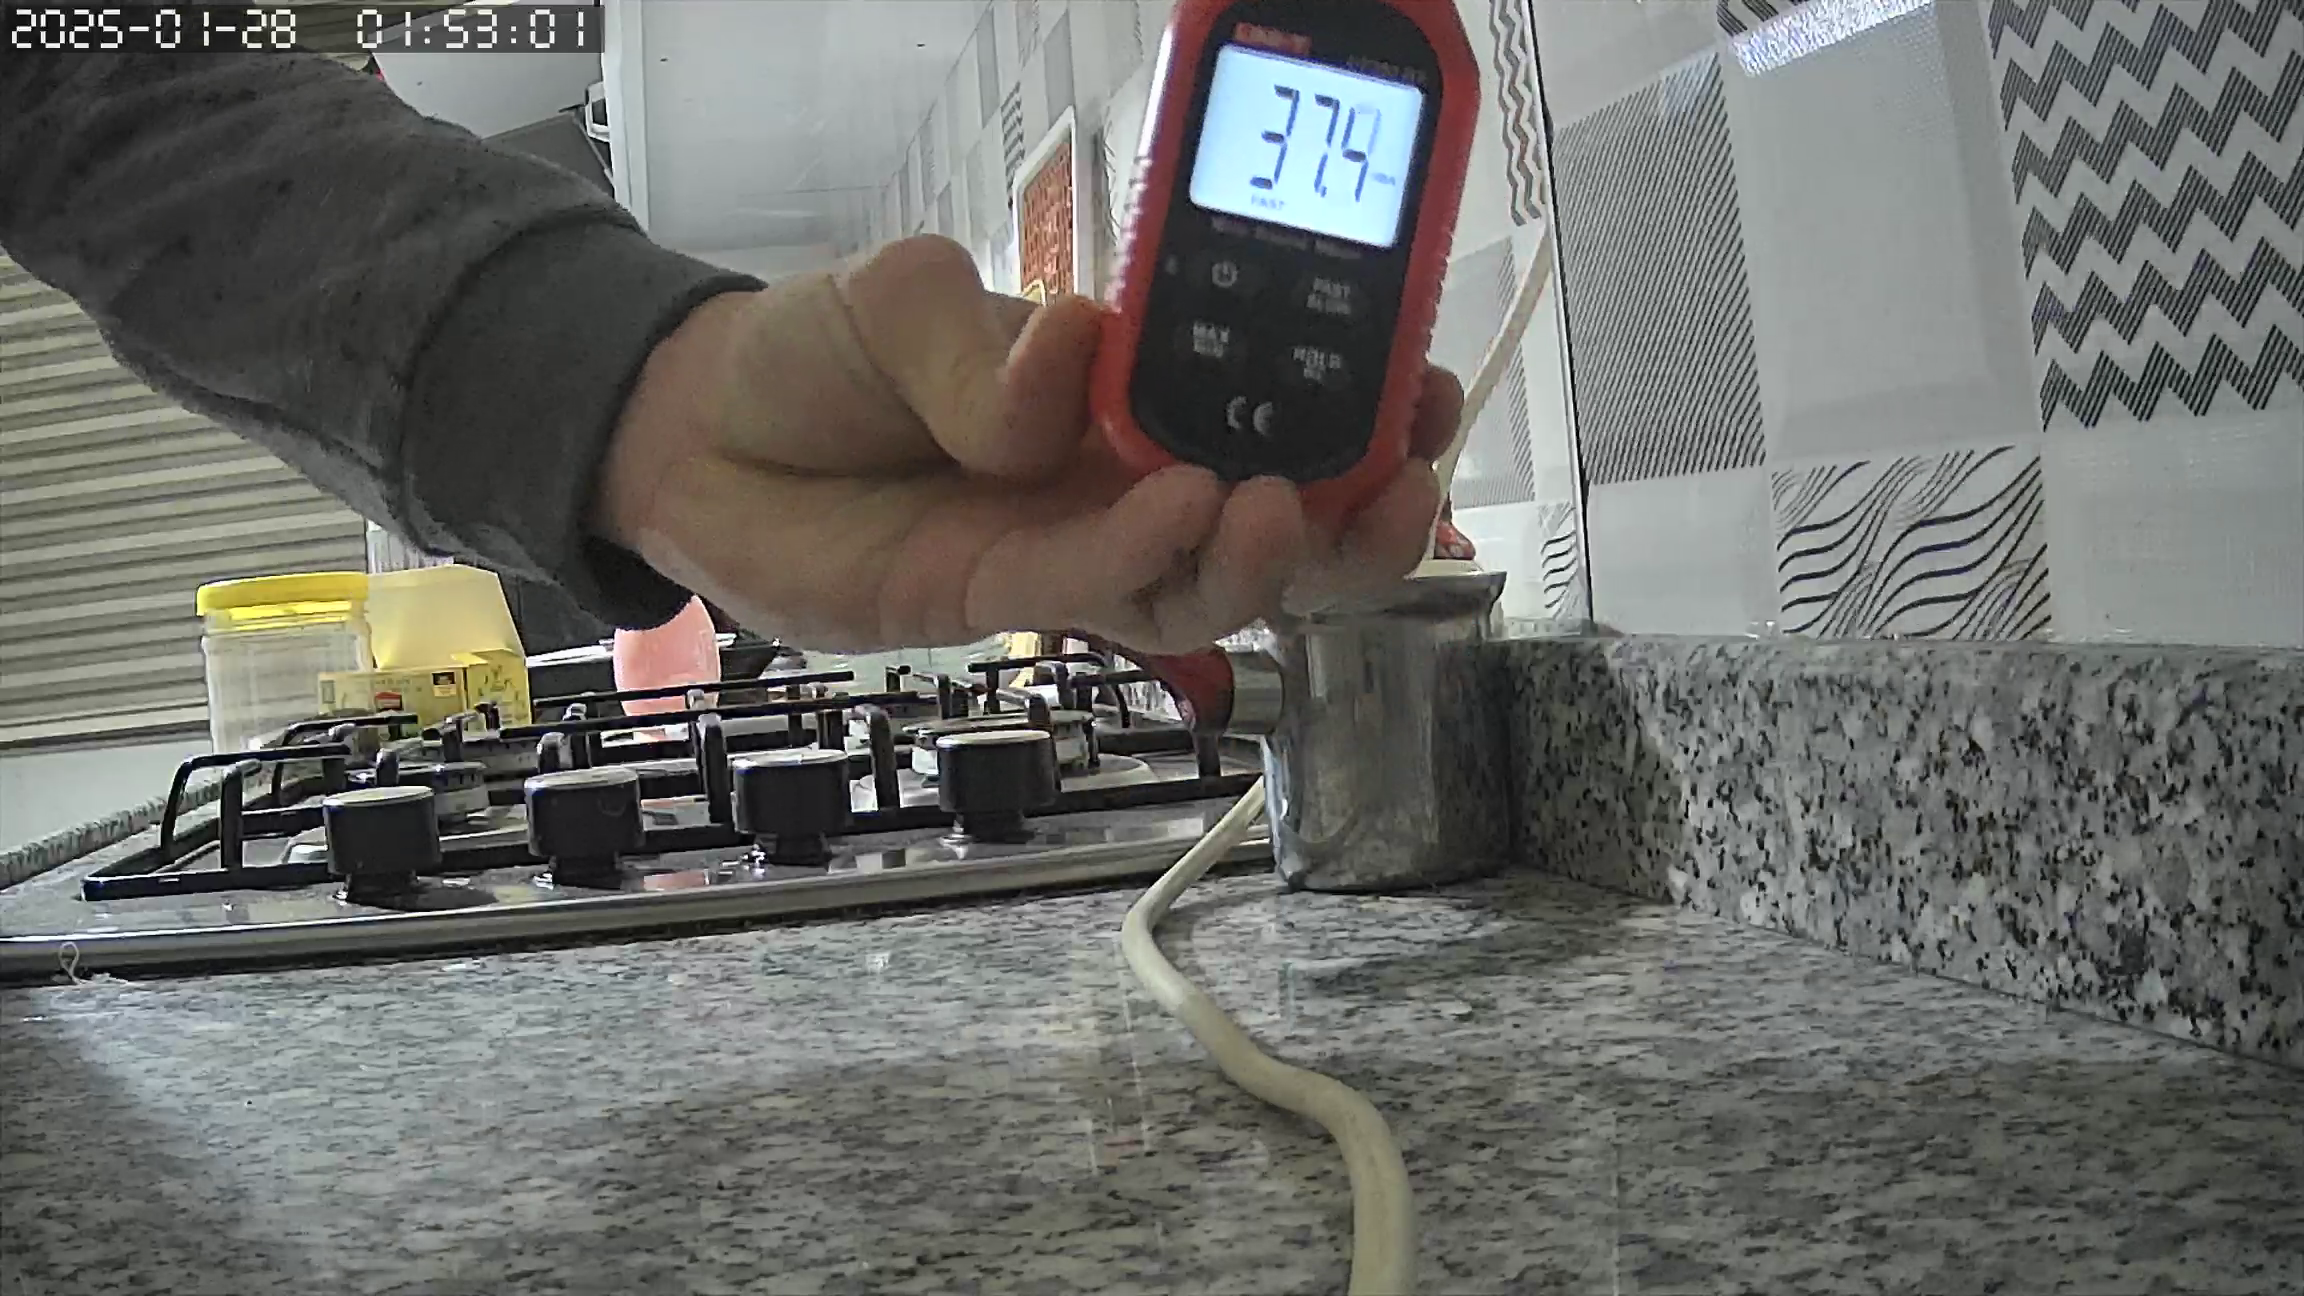screen: (1187, 46, 1426, 252)
